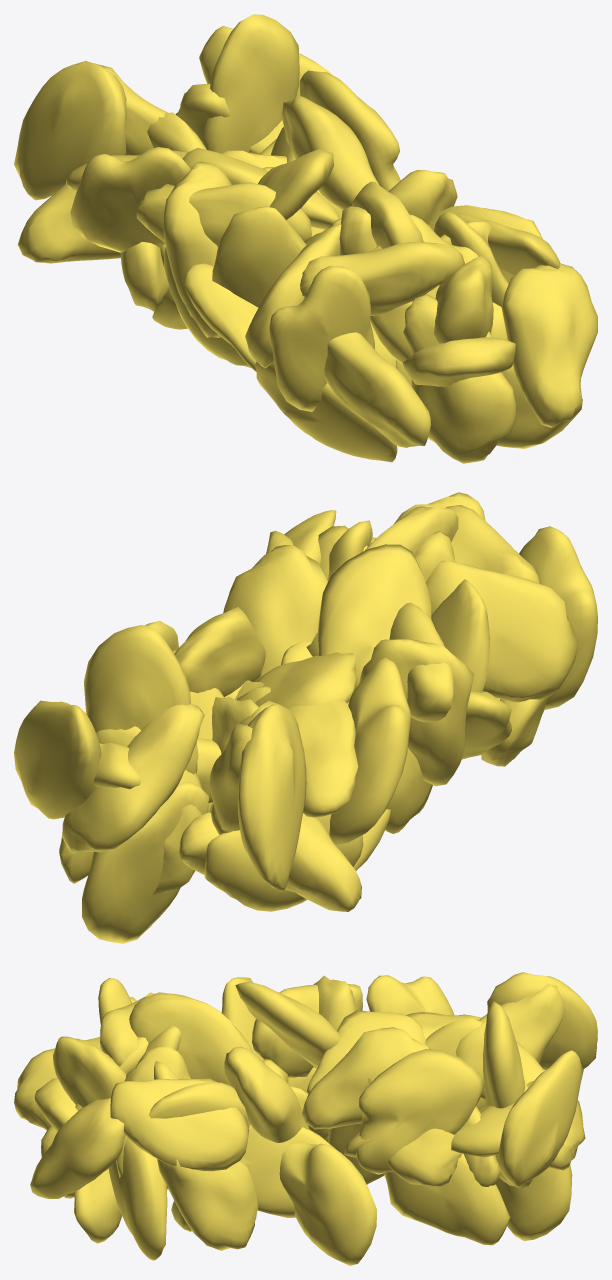
The model's file is ChickenNuggets_Basket.fbx.
3 renders of one model, top to bottom at view 1: azimuth 30°, elevation 25°; view 2: azimuth 150°, elevation 25°; view 3: azimuth 270°, elevation 25°, orthographic. The views are drawn at different scales.
Visible parts, largest first — view 1: ChickenNugget_RawBasket; view 2: ChickenNugget_RawBasket; view 3: ChickenNugget_RawBasket.
Part boxes in pixels (left/top/right/bottom): ChickenNugget_RawBasket: left=14, top=14, right=597, bottom=463; ChickenNugget_RawBasket: left=14, top=492, right=597, bottom=943; ChickenNugget_RawBasket: left=14, top=972, right=597, bottom=1265.
Bounding box in the file's own units: 19.15 × 16.14 × 36.06.
